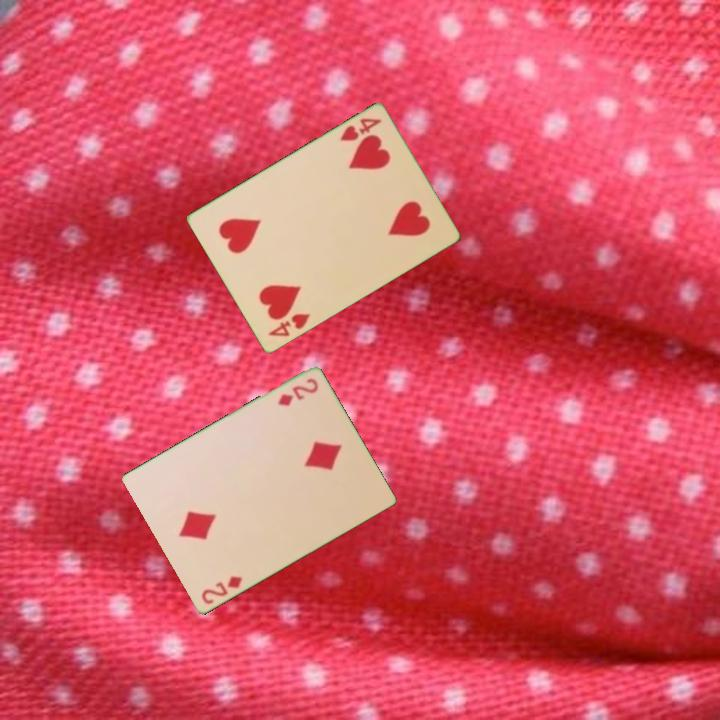2d: (198, 573, 245, 608), (274, 375, 321, 410)
4h: (264, 310, 313, 340), (337, 115, 384, 145)
